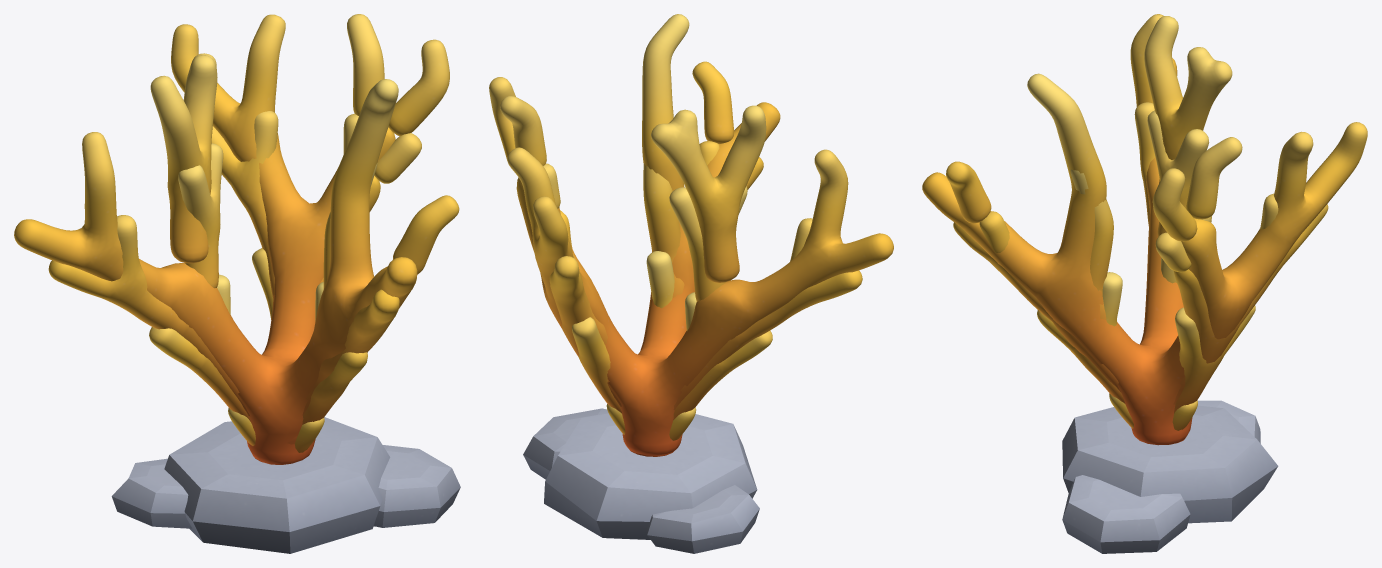
Rendered from BranchCoral.fbx.
3 renders of one model, left to right at view 1: azimuth 30°, elevation 25°; view 2: azimuth 150°, elevation 25°; view 3: azimuth 270°, elevation 25°, orthographic. The views are drawn at different scales.
Visible parts, largest first — view 1: BranchCoral_S4, BranchCoral_S3, BranchCoral_S2, BranchCoral_S1; view 2: BranchCoral_S4, BranchCoral_S3, BranchCoral_S2, BranchCoral_S1; view 3: BranchCoral_S4, BranchCoral_S3, BranchCoral_S2, BranchCoral_S1.
Boxes of the visible parts, bbox=[...] form: BranchCoral_S4: bbox=[14, 14, 460, 553]; BranchCoral_S3: bbox=[48, 111, 421, 527]; BranchCoral_S2: bbox=[149, 248, 375, 526]; BranchCoral_S1: bbox=[228, 408, 324, 452]; BranchCoral_S4: bbox=[489, 14, 893, 553]; BranchCoral_S3: bbox=[543, 141, 862, 456]; BranchCoral_S2: bbox=[572, 251, 772, 420]; BranchCoral_S1: bbox=[606, 404, 696, 440]; BranchCoral_S4: bbox=[922, 14, 1367, 553]; BranchCoral_S3: bbox=[953, 102, 1328, 442]; BranchCoral_S2: bbox=[1037, 258, 1255, 413]; BranchCoral_S1: bbox=[1109, 393, 1197, 430].
Size of the model in its own units: 0.611 by 0.638 by 0.5936.
